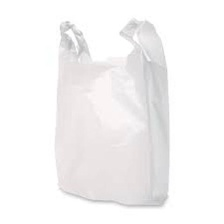plastic_bag: (48, 11, 173, 210)
